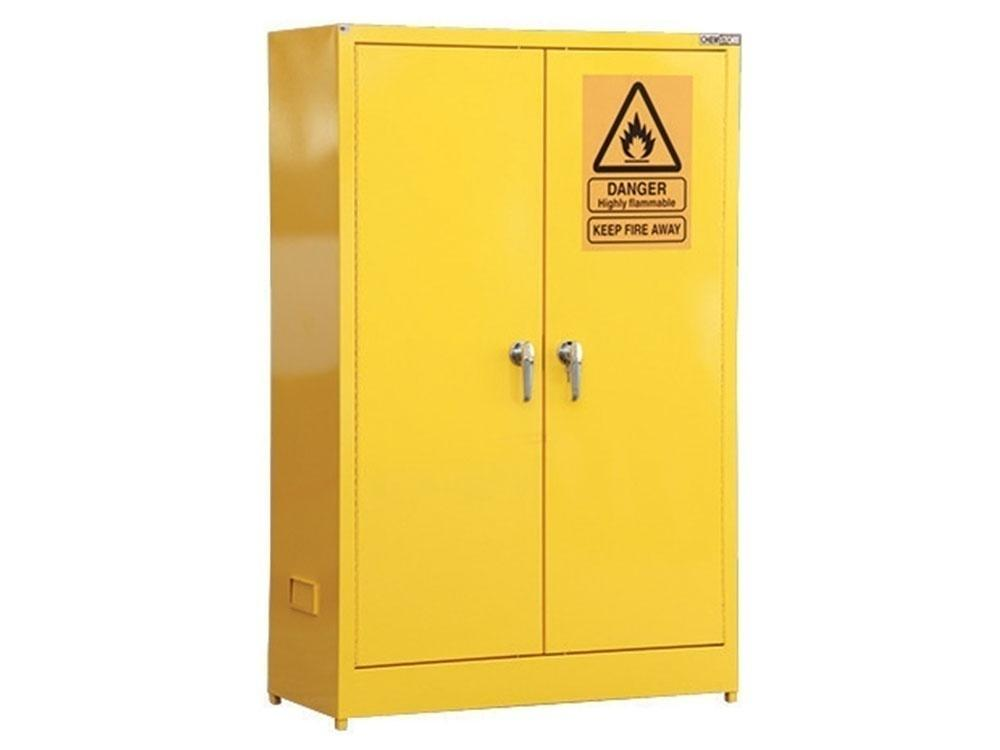cabinet_door: (361, 43, 541, 664), (553, 48, 729, 663)
handle: (556, 337, 587, 409), (510, 339, 539, 410)
